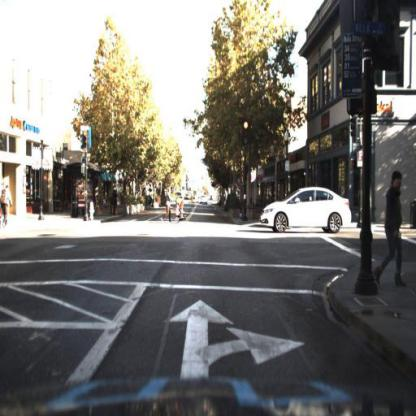car: (251, 183, 362, 234)
pedestrian: (375, 171, 408, 290), (164, 185, 187, 228)
trafficLight-Red: (77, 122, 91, 155), (242, 119, 252, 146), (79, 127, 88, 150)
